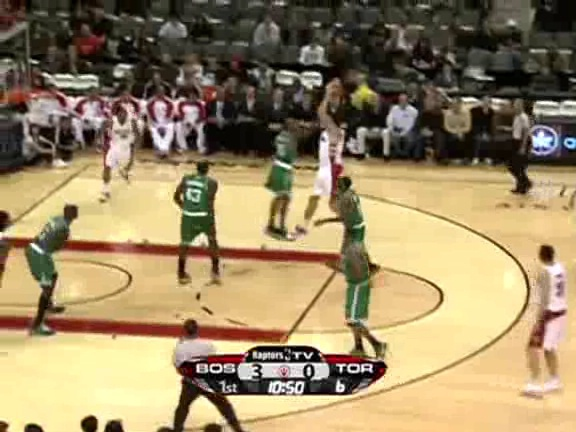person: (335, 182, 369, 263), (334, 182, 368, 263), (336, 182, 370, 263), (335, 181, 369, 262), (335, 183, 369, 264)
target_negative: (142, 69, 430, 283), (42, 51, 405, 94), (247, 127, 469, 167), (91, 360, 515, 374), (166, 161, 194, 340), (502, 263, 511, 287)
